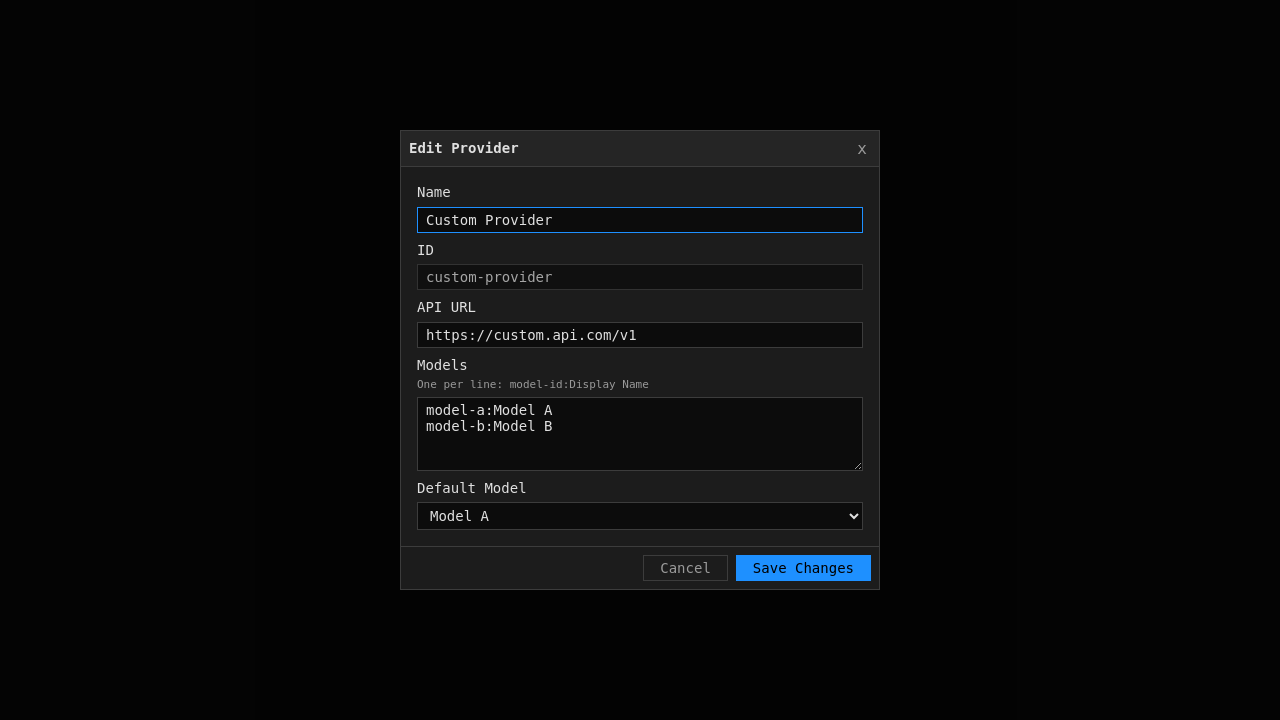
Test: ProviderModal › Edit Mode › handles save error
Step 1. Click the button "Save Changes" → x=803, y=568, box [736,556,871,582]
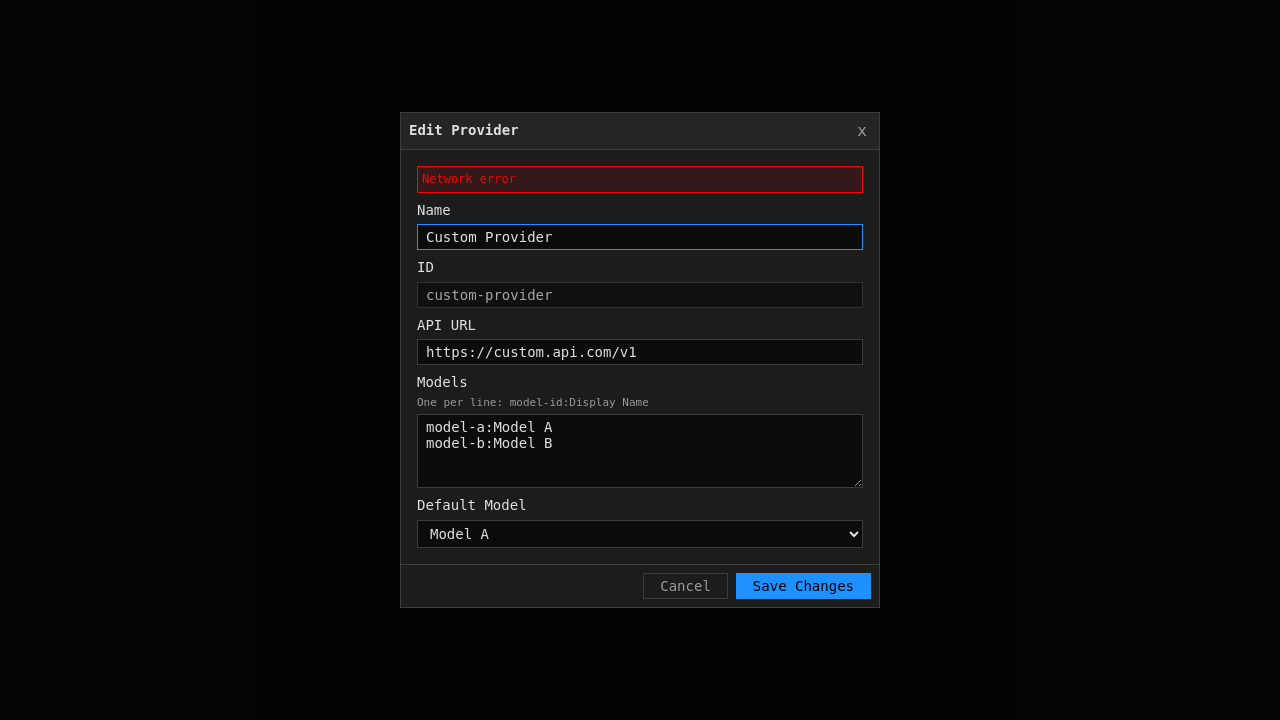
Expected: the button "Save Changes" is shown, [736,573,871,599]
Expected: the text "Network error" is shown, [417,166,863,192]
